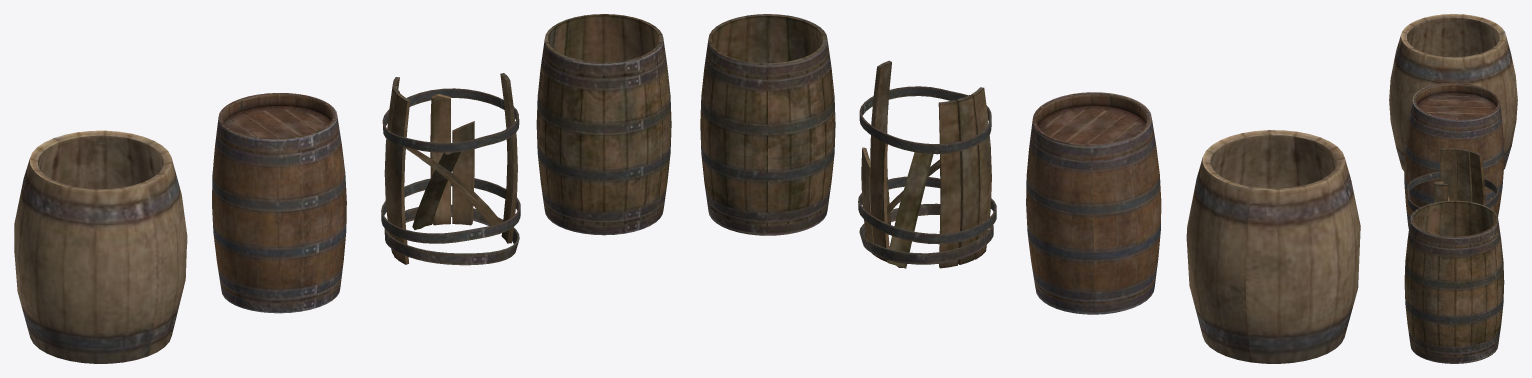
Rendered from p_barrels.glb.
The picture shows the model from 3 angles, left to right: view 1: azimuth 30°, elevation 25°; view 2: azimuth 150°, elevation 25°; view 3: azimuth 270°, elevation 25°; orthographic projection. The views are drawn at different scales.
Parts seen in each view (by area): view 1: barrel_big_Barrels_0, mesh0_Barrels_0, barrel_small_open_Barrels_0, barrel_small_broken_Barrels_0; view 2: barrel_big_Barrels_0, mesh0_Barrels_0, barrel_small_open_Barrels_0, barrel_small_broken_Barrels_0; view 3: mesh0_Barrels_0, barrel_big_Barrels_0, barrel_small_open_Barrels_0, barrel_small_broken_Barrels_0.
Part boxes in pixels (bbox=[...]): barrel_big_Barrels_0: bbox=[14, 130, 187, 363]; mesh0_Barrels_0: bbox=[536, 14, 671, 235]; barrel_small_open_Barrels_0: bbox=[212, 93, 346, 313]; barrel_small_broken_Barrels_0: bbox=[381, 73, 520, 265]; barrel_big_Barrels_0: bbox=[1186, 130, 1360, 363]; mesh0_Barrels_0: bbox=[700, 14, 835, 235]; barrel_small_open_Barrels_0: bbox=[1026, 92, 1161, 314]; barrel_small_broken_Barrels_0: bbox=[858, 60, 996, 268]; mesh0_Barrels_0: bbox=[1404, 200, 1504, 363]; barrel_big_Barrels_0: bbox=[1389, 14, 1517, 171]; barrel_small_open_Barrels_0: bbox=[1404, 83, 1503, 228]; barrel_small_broken_Barrels_0: bbox=[1407, 148, 1498, 213].
Size of the model in its own units: 1.37 by 0.3589 by 0.3255.
Materials: 1 (1 with a texture image).
